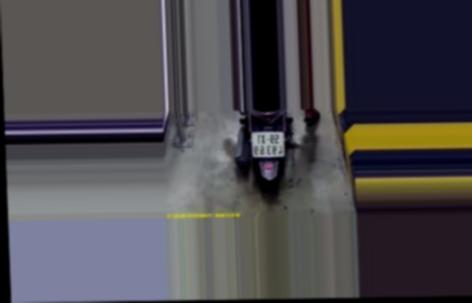License_Plate: (248, 129, 287, 161)
